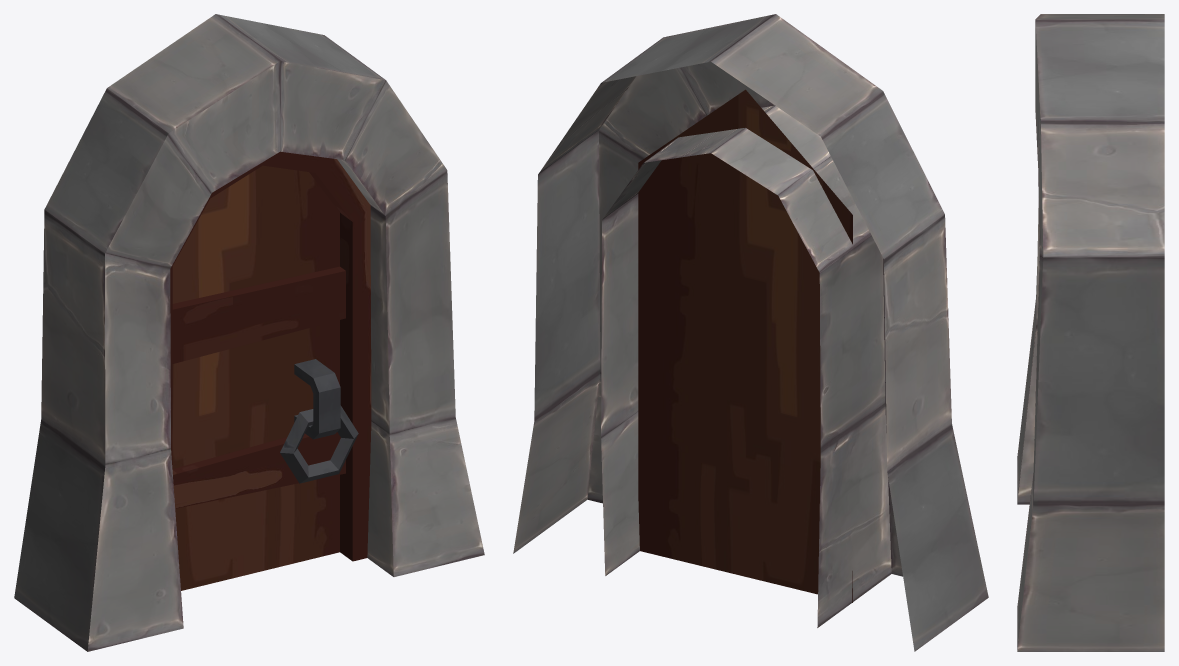
Rendered from SM_BLD_door_v04_01.glb.
3 views of the same model, side by side, from view 1: azimuth 30°, elevation 25°; view 2: azimuth 150°, elevation 25°; view 3: azimuth 270°, elevation 25° (orthographic).
Visible parts, largest first — view 1: SM_BLD_door_v04_01_EXPORT; view 2: SM_BLD_door_v04_01_EXPORT; view 3: SM_BLD_door_v04_01_EXPORT.
Boxes of the visible parts, <box> form: SM_BLD_door_v04_01_EXPORT: <box>14,14,484,651</box>; SM_BLD_door_v04_01_EXPORT: <box>513,14,988,651</box>; SM_BLD_door_v04_01_EXPORT: <box>1017,14,1164,651</box>.
Size of the model in its own units: 2.21 by 2.84 by 0.708.
Materials: 3 (3 with a texture image).
